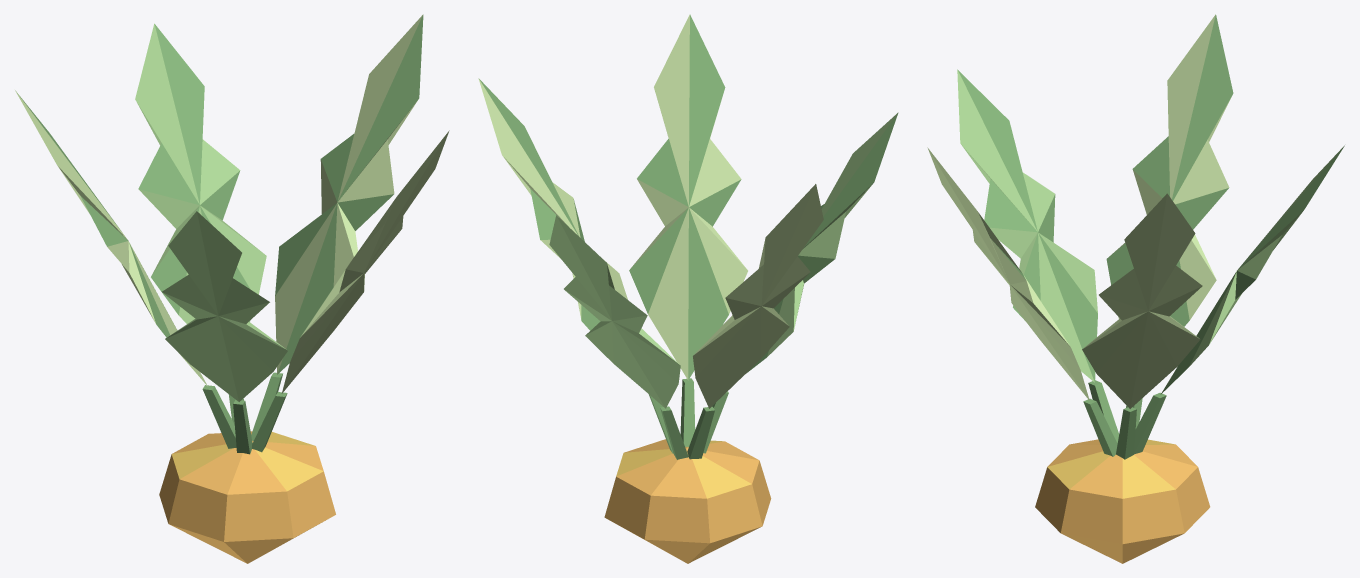
Rendered from crop_carrot_s2.glb.
The picture shows the model from 3 angles, left to right: view 1: azimuth 30°, elevation 25°; view 2: azimuth 150°, elevation 25°; view 3: azimuth 270°, elevation 25°; orthographic projection. The views are drawn at different scales.
Parts seen in each view (by area): view 1: crop_carrot_s2; view 2: crop_carrot_s2; view 3: crop_carrot_s2.
Part boxes in pixels (x1=…): crop_carrot_s2: x1=15, y1=14, x2=449, y2=563; crop_carrot_s2: x1=478, y1=14, x2=898, y2=563; crop_carrot_s2: x1=927, y1=14, x2=1344, y2=563.
Size of the model in its own units: 0.4063 by 0.49 by 0.4008.
